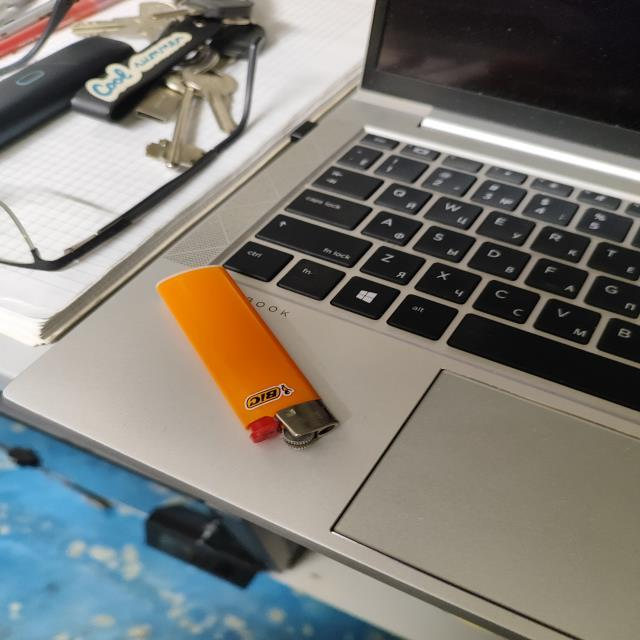lighter: (157, 266, 337, 447)
